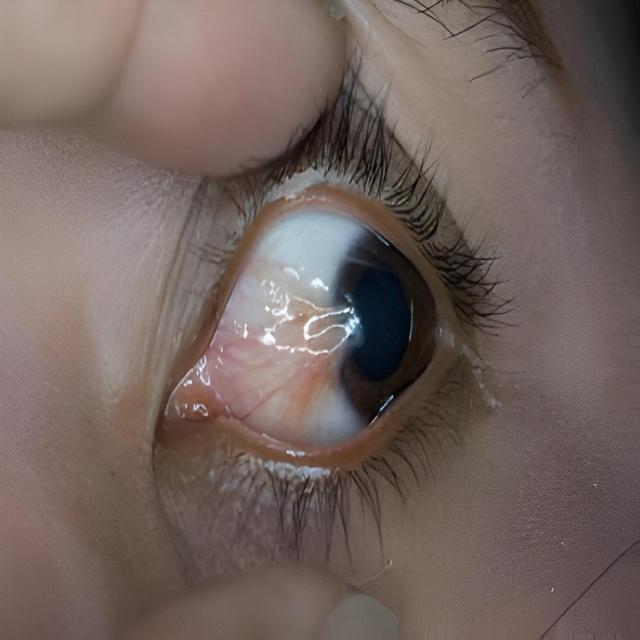Pterygium: (204, 246, 362, 431)
